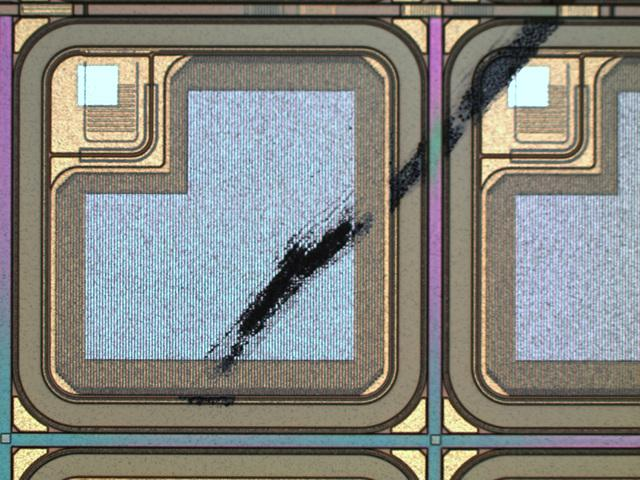SCRATCH: (174, 4, 569, 417)
